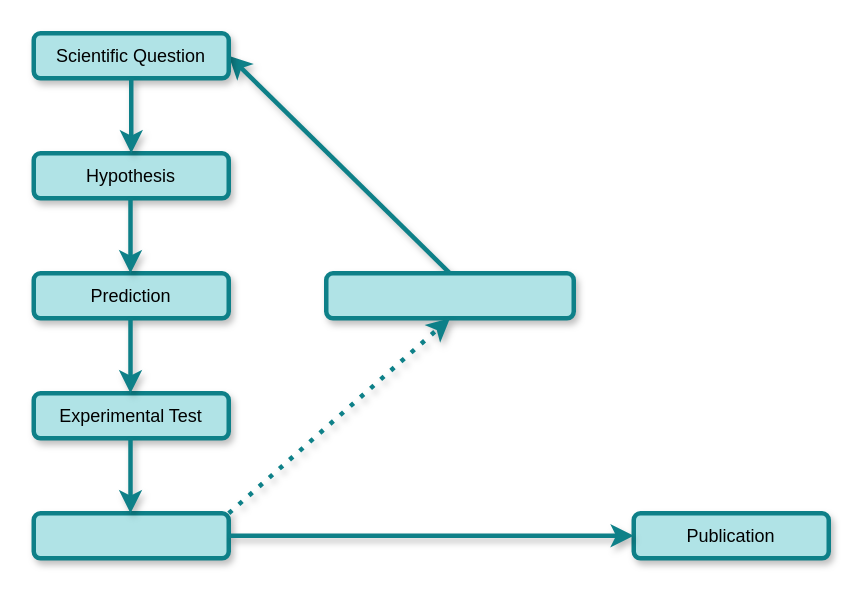
The diagram is 866 pixels wide and 597 high, and some of its shapes have lost their labels. Each missing label, with the centre of its shape:
New Scientific Question: (450,297)
Scientific Finding: (132,537)
